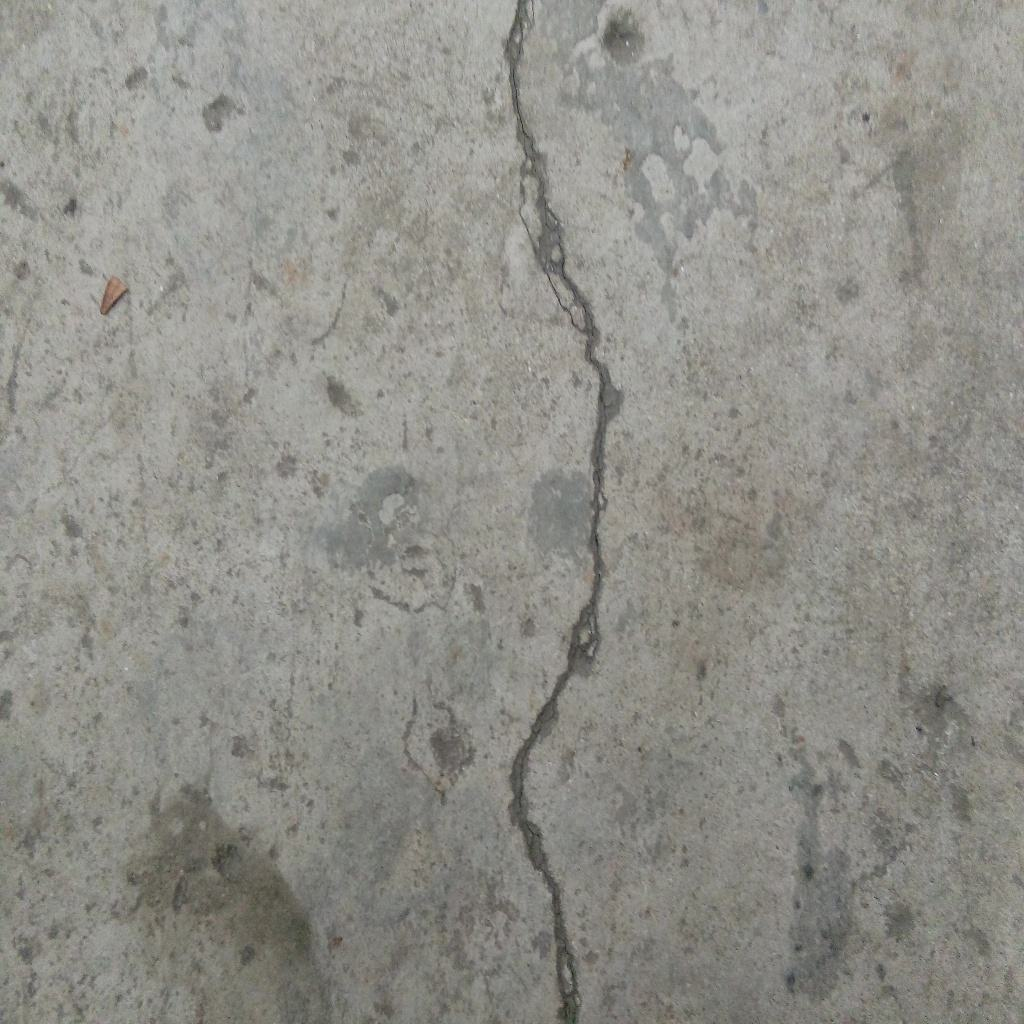Crack: (509, 1, 624, 1024)
